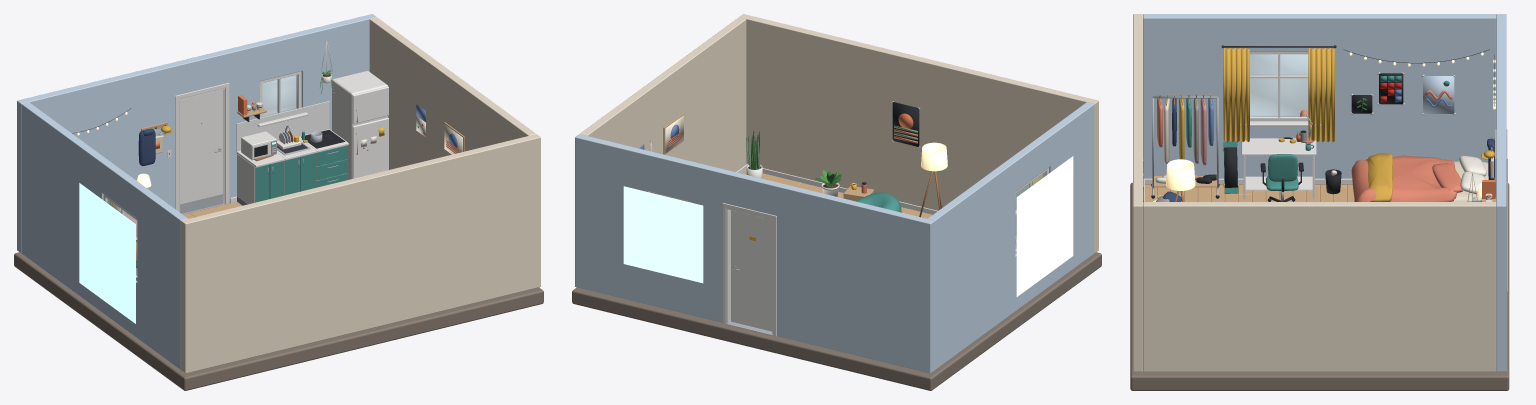
File: tier1.glb
3 views of the same model, side by side, from view 1: azimuth 30°, elevation 25°; view 2: azimuth 150°, elevation 25°; view 3: azimuth 270°, elevation 25° (orthographic). The views are drawn at different scales.
Parts seen in each view (by area): view 1: wall_s, wall_n, wall_w, wall_e, slab, door_mesh, kitchenette_mesh, window_mesh, fridge_mesh, kitchenette_upper_mesh, decor_n_mesh, window_2_mesh (+1 smaller); view 2: wall_n, wall_s, wall_w, wall_e, slab, door_mesh, window_2_mesh, window_mesh, poster_s_mesh, floor_lamp_mesh, decor_e_mesh, wall_s_trim (+3 smaller); view 3: wall_e, wall_w, window_mesh, slab, bed_mesh, wall_n, wall_s, clothes_rack_mesh, computer_mesh, decor_w_mesh, floor, floor_lamp_mesh (+4 smaller).
Part boxes in pixels (x1,y1,x2,y2): wall_s: (181,134,540,373); wall_n: (17,14,376,253); wall_w: (21,102,187,369); wall_e: (369,17,535,169); slab: (14,202,543,390); door_mesh: (175,83,229,214); kitchenette_mesh: (236,125,348,205); window_mesh: (79,183,137,323); fridge_mesh: (332,71,388,179); kitchenette_upper_mesh: (236,101,329,151); decor_n_mesh: (72,39,334,166); window_2_mesh: (257,71,308,126); wall_n: (575,134,934,373); wall_s: (739,14,1098,253); wall_w: (928,102,1094,369); wall_e: (580,17,746,171); slab: (572,252,1101,390); door_mesh: (722,203,776,336); window_2_mesh: (623,186,703,283); window_mesh: (1015,156,1073,296); poster_s_mesh: (891,101,920,148); floor_lamp_mesh: (919,142,947,216); decor_e_mesh: (639,113,683,154); wall_s_trim: (747,164,1016,234); wall_e: (1143,202,1496,371); wall_w: (1143,14,1496,178); window_mesh: (1221,45,1336,142); slab: (1130,182,1509,390); bed_mesh: (1351,153,1494,201); wall_n: (1496,14,1506,371); wall_s: (1133,14,1143,371); clothes_rack_mesh: (1151,94,1219,198); computer_mesh: (1241,109,1316,201); decor_w_mesh: (1343,49,1489,115); floor: (1144,184,1354,201); floor_lamp_mesh: (1166,159,1195,201).
Size of the model in its own units: 6.96 by 3 by 5.76.
